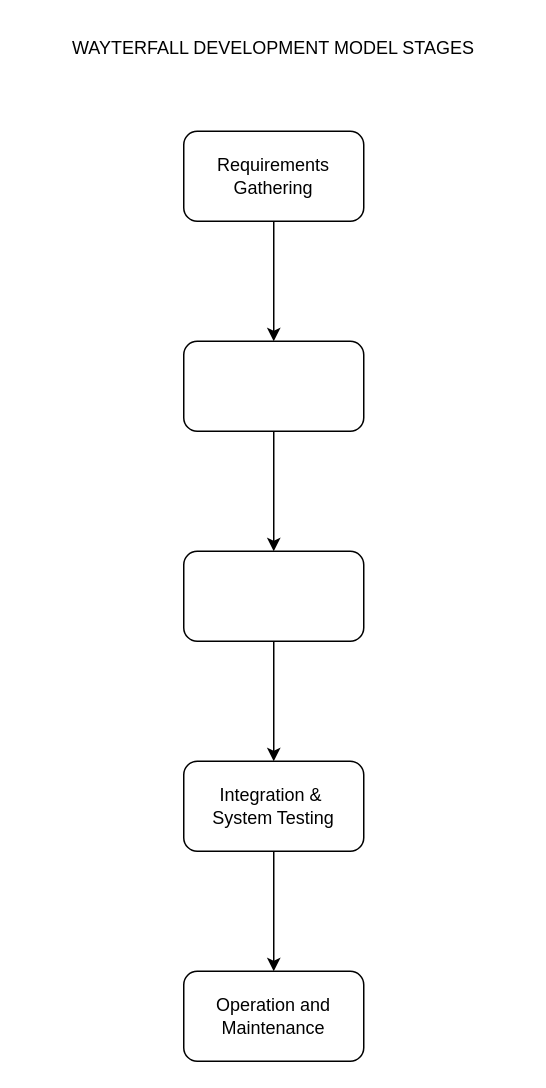
The diagram is 546 pixels wide and 1088 high, and some of its shapes have lost their labels. Each missing label, with the centre of its shape:
Implementation: (273,595)
System & Software Design: (273,385)
